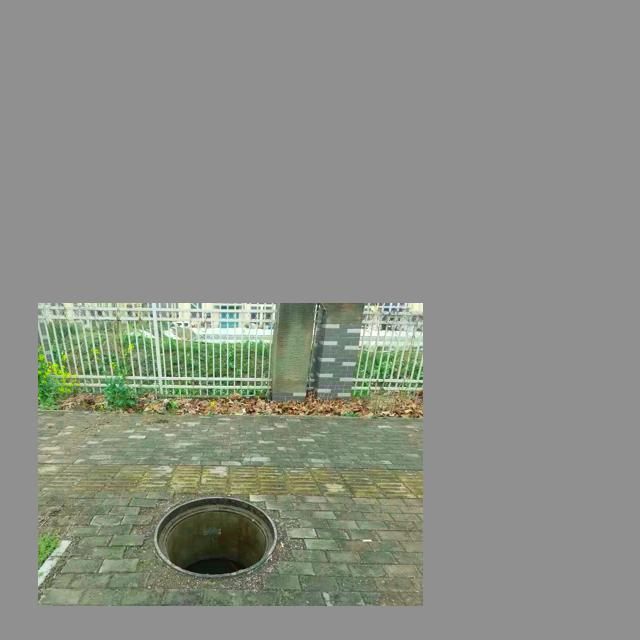lose: (153, 496, 278, 577)
